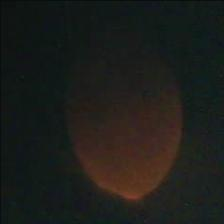fertile: (66, 28, 182, 202)
